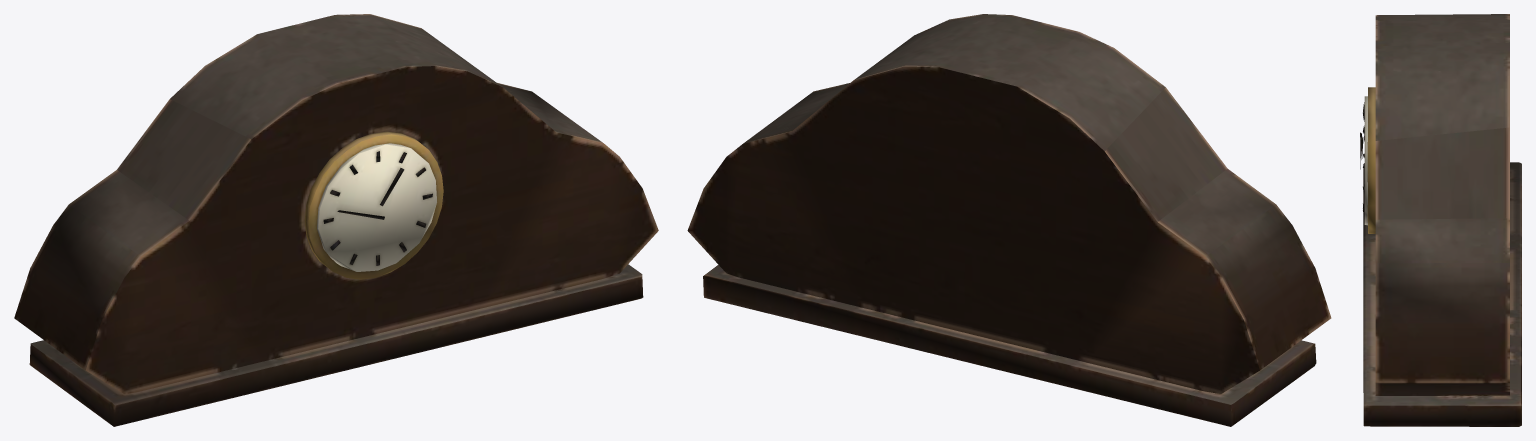
Rendered from mantel_clock-low.glb.
The picture shows the model from 3 angles, left to right: view 1: azimuth 30°, elevation 25°; view 2: azimuth 150°, elevation 25°; view 3: azimuth 270°, elevation 25°; orthographic projection. The views are drawn at different scales.
Parts seen in each view (by area): view 1: mantel_clock-low; view 2: mantel_clock-low; view 3: mantel_clock-low.
Part boxes in pixels (x1=…): mantel_clock-low: x1=14, y1=14, x2=658, y2=426; mantel_clock-low: x1=687, y1=14, x2=1331, y2=426; mantel_clock-low: x1=1360, y1=14, x2=1521, y2=426.
Bounding box in the file's own units: 0.463 × 0.2268 × 0.1204.
1 material, 1 textured.
